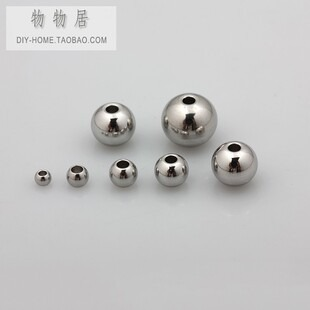ironball: (160, 92, 217, 146), (210, 140, 257, 185), (90, 101, 135, 146), (153, 152, 189, 187), (108, 158, 137, 187), (66, 164, 88, 187), (34, 168, 51, 186)
